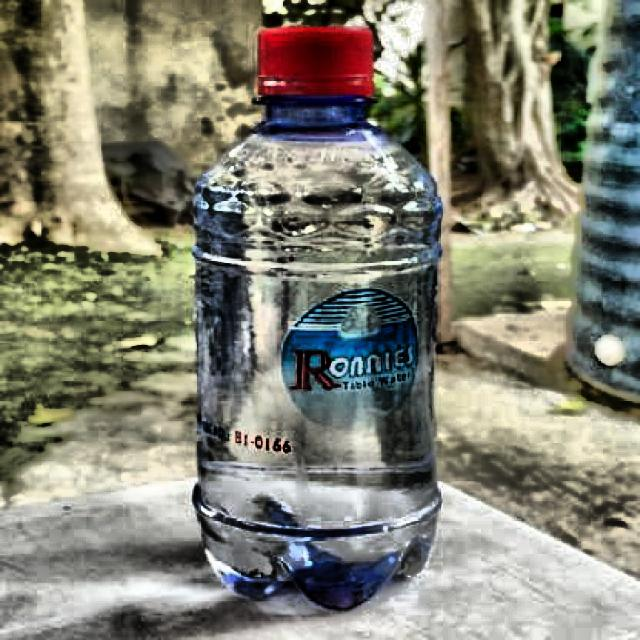Bottles: (150, 13, 462, 608)
